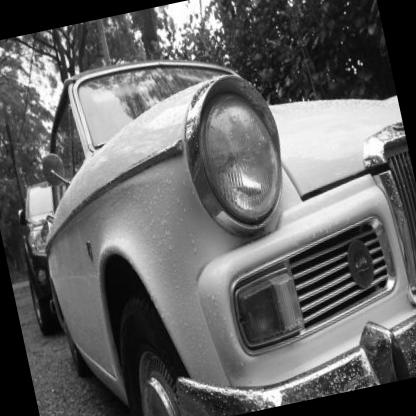car: (5, 6, 416, 416)
